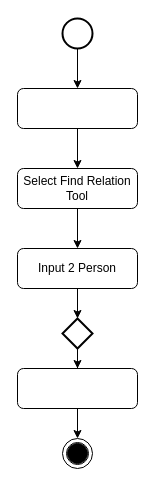
Some shapes in this 155 by 486 pixel diagram are drawn without their labels. The centre of each missing label's shape, as x and y in pixels:
Click on any Family Tree: [77,108]
Print out Relation: [77,388]
